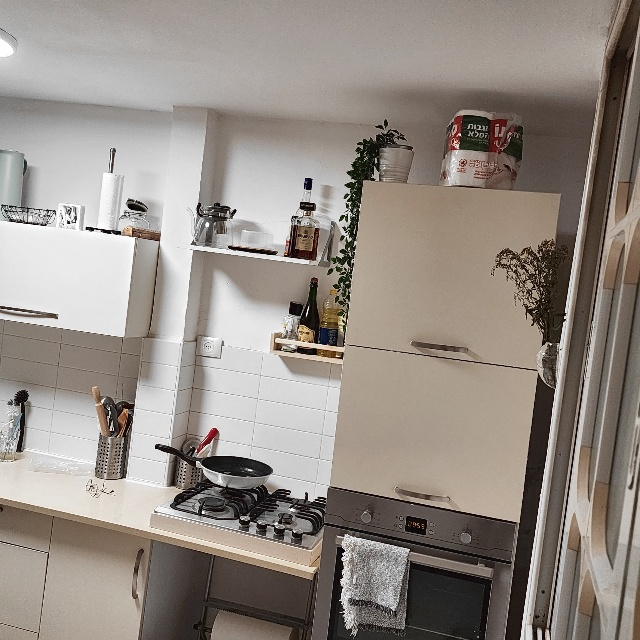glasses: (84, 475, 116, 498)
